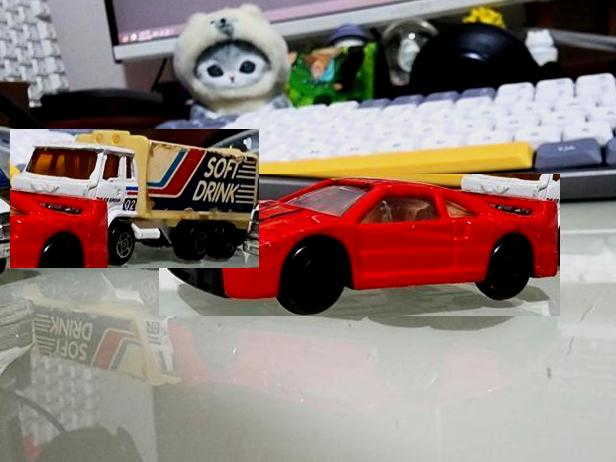toy-car: (158, 174, 559, 316), (9, 130, 258, 269)
